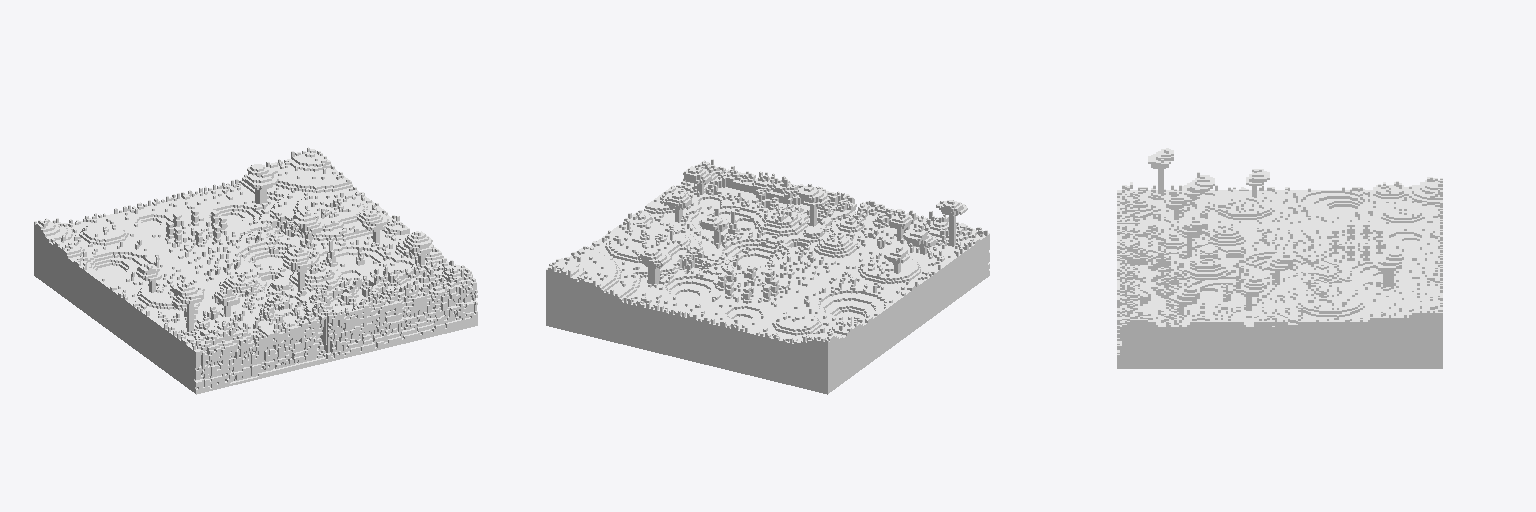
The model's file is orange-plains.obj.
3 views of the same model, side by side, from view 1: azimuth 30°, elevation 25°; view 2: azimuth 150°, elevation 25°; view 3: azimuth 270°, elevation 25° (orthographic).
Parts seen in each view (by area): view 1: object 1; view 2: object 1; view 3: object 1.
Part boxes in pixels (x1,y1,x2,y2): object 1: (34, 147, 477, 394); object 1: (546, 159, 989, 394); object 1: (1117, 148, 1442, 368).
Bounding box in the file's own units: 12.6 × 3.8 × 12.6.